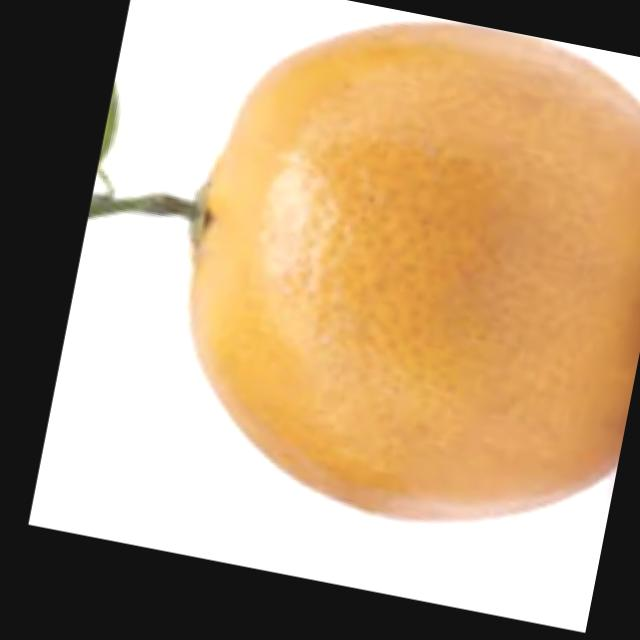orange: (135, 0, 640, 565)
